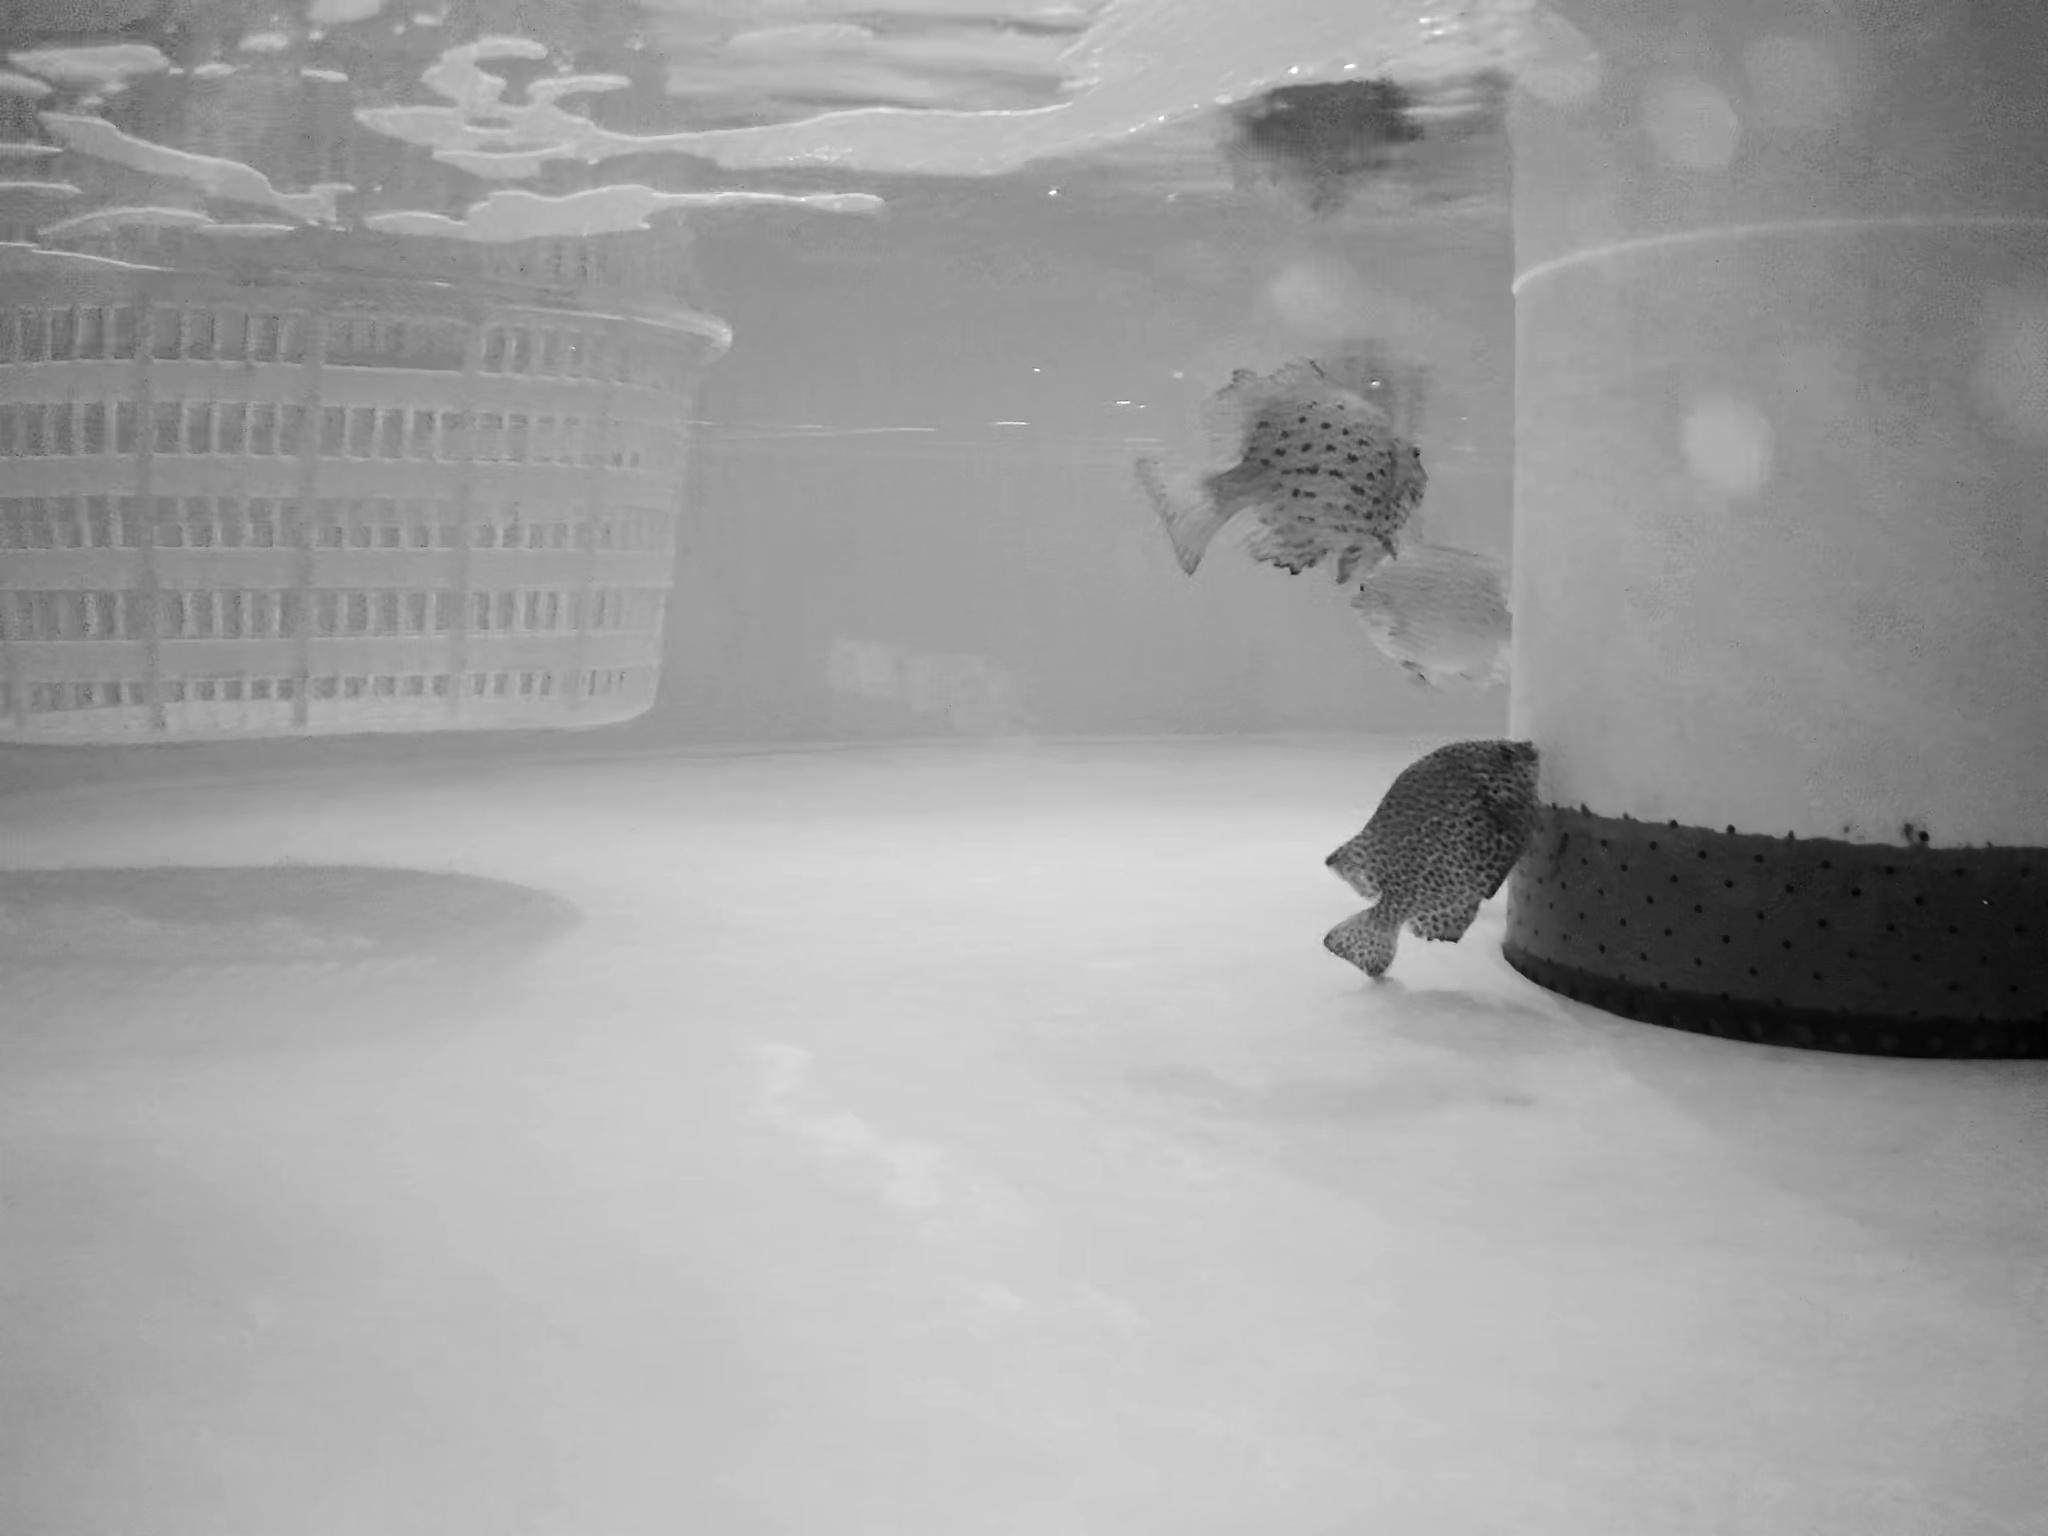fish: (1142, 363, 1422, 584), (1300, 729, 1540, 965), (1340, 526, 1513, 689)
